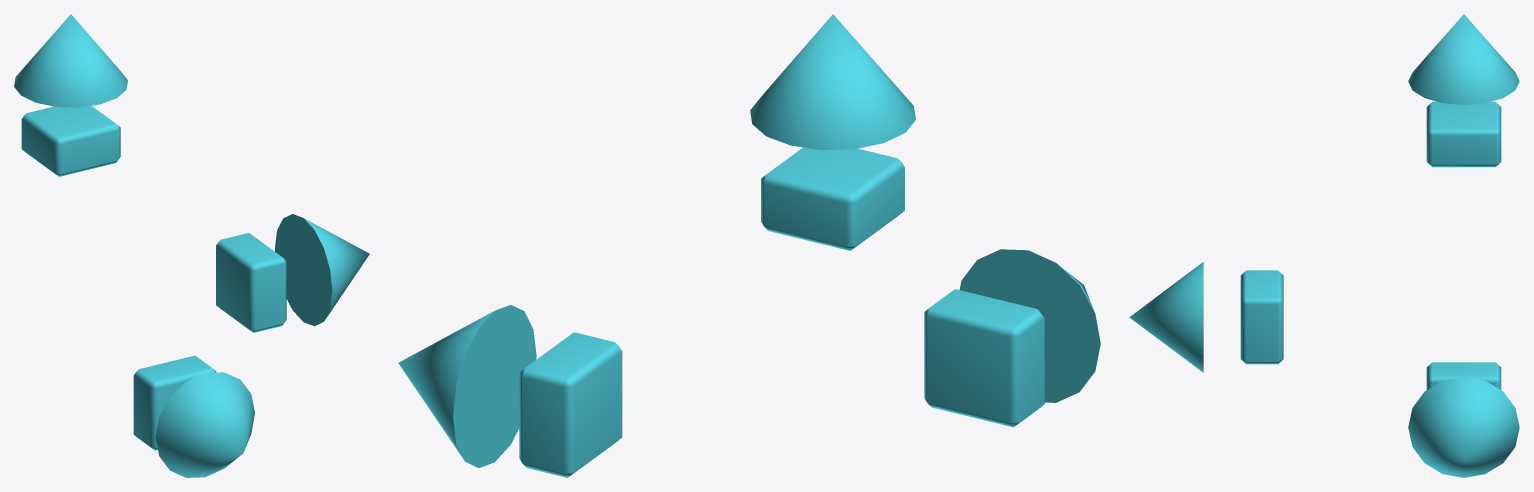
Rendered from AnchorArrowXYZ_50.fbx.
3 renders of one model, left to right at view 1: azimuth 30°, elevation 25°; view 2: azimuth 150°, elevation 25°; view 3: azimuth 270°, elevation 25°, orthographic. The views are drawn at different scales.
Visible parts, largest first — view 1: XYZ; view 2: XYZ; view 3: XYZ.
Part boxes in pixels (x1,y1,x2,y2): XYZ: (14, 14, 369, 477); XYZ: (398, 14, 1100, 477); XYZ: (1129, 14, 1519, 477).
Size of the model in its own units: 6.39 by 6.39 by 6.39.
